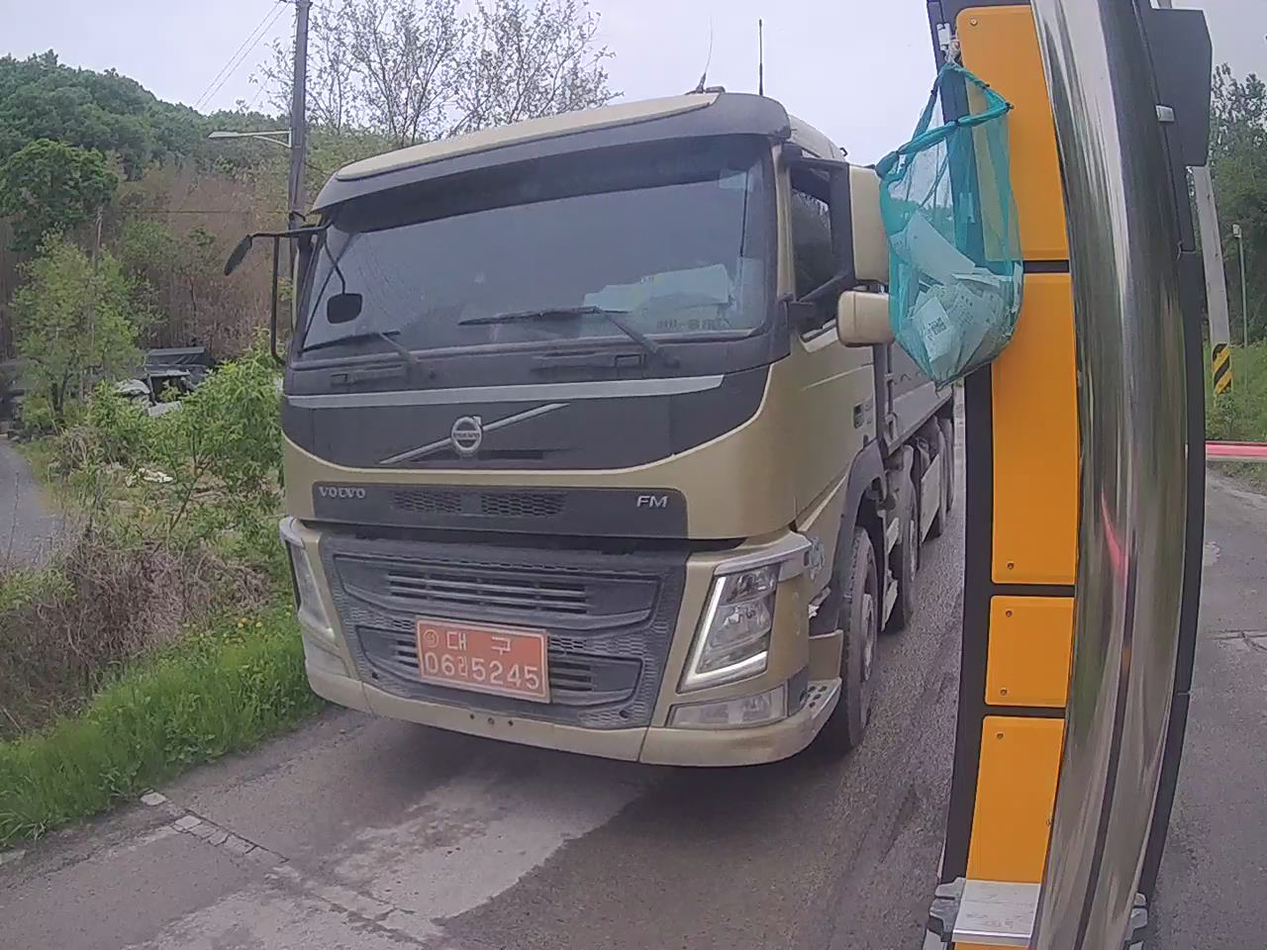license_plate: (416, 620, 547, 701)
truck: (228, 89, 953, 764)
